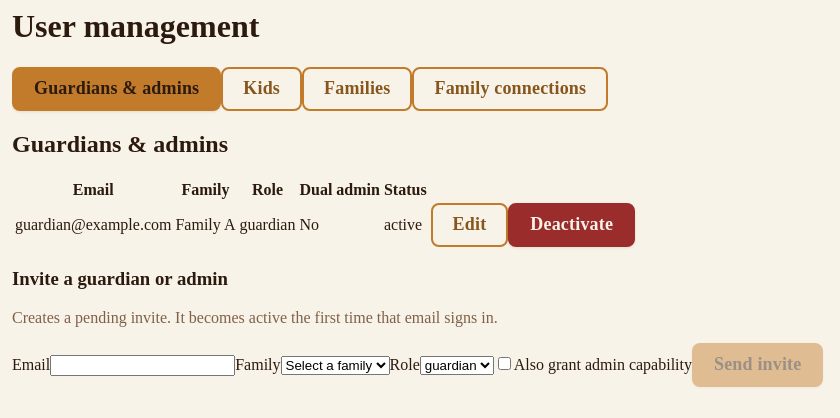
Test: UserManagementPage › switches to the Families tab and shows member counts
Expected: the text "guardian@example.com" is shown, [14,202,172,248]
Click the button "Families" at (357, 89), box [302,67,412,111]
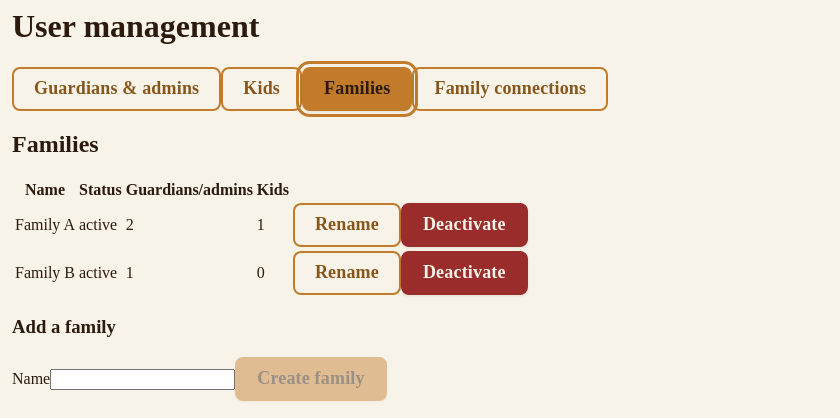
Now the text "Family A" is shown, box [15,216,75,233]
Now the text "2" is shown, box [125,202,254,248]
Now the text "1" in the row of "Family A" is shown, box [257,216,265,233]
